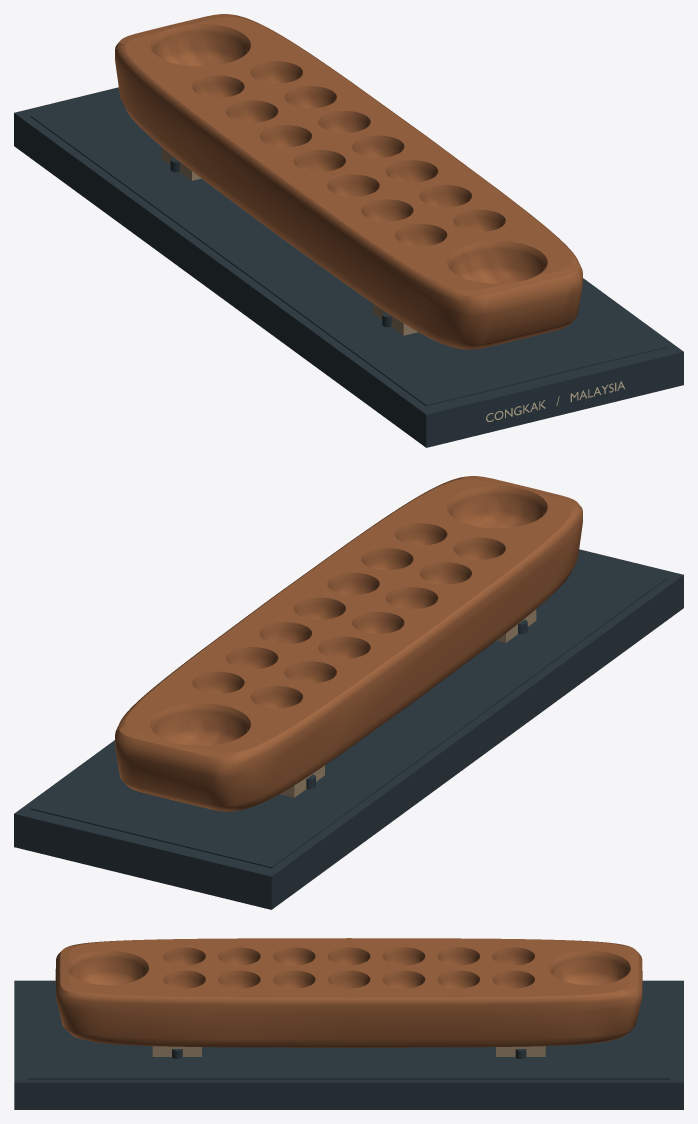
The model's file is traditional-congkak-board-display.glb.
3 views of the same model, one above another, from view 1: azimuth 30°, elevation 25°; view 2: azimuth 150°, elevation 25°; view 3: azimuth 270°, elevation 25° (orthographic). The views are drawn at different scales.
Visible parts, largest first — view 1: Single carved solid board with integral 16 wells, Recessed top museum center plane, Low museum exhibit slab; view 2: Single carved solid board with integral 16 wells, Recessed top museum center plane, Low museum exhibit slab; view 3: Single carved solid board with integral 16 wells, Recessed top museum center plane, Low museum exhibit slab, Independent padded cradle, Independent padded cradle.001.
Boxes of the visible parts, x1,y1,x2,y2 form: Single carved solid board with integral 16 wells: (115, 14, 582, 349); Recessed top museum center plane: (30, 94, 667, 406); Low museum exhibit slab: (14, 87, 683, 447); Single carved solid board with integral 16 wells: (115, 476, 582, 811); Recessed top museum center plane: (30, 556, 667, 868); Low museum exhibit slab: (14, 549, 683, 909); Single carved solid board with integral 16 wells: (55, 938, 642, 1047); Recessed top museum center plane: (28, 983, 670, 1079); Low museum exhibit slab: (14, 980, 683, 1109); Independent padded cradle: (152, 1046, 201, 1056); Independent padded cradle.001: (496, 1046, 545, 1056).
Size of the model in its own units: 0.405 by 0.168 by 1.12.
